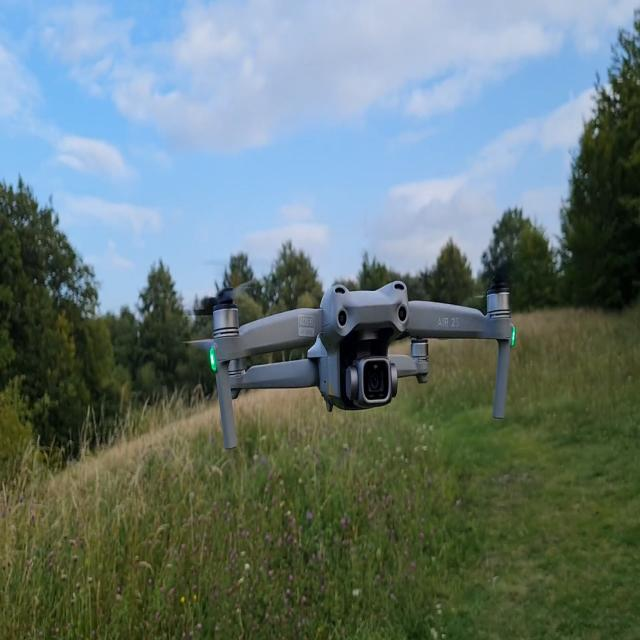drone: (181, 268, 516, 450)
